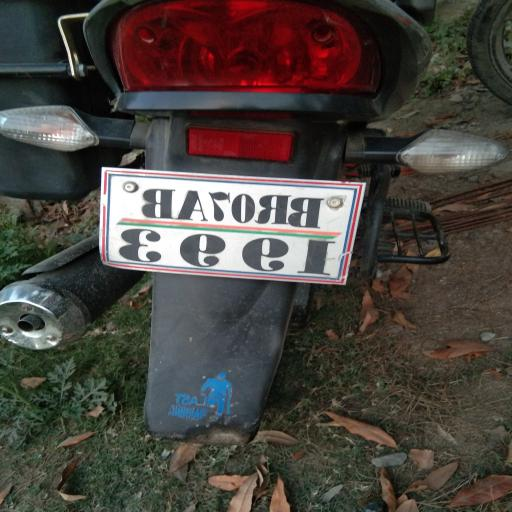License: (91, 167, 368, 288)
